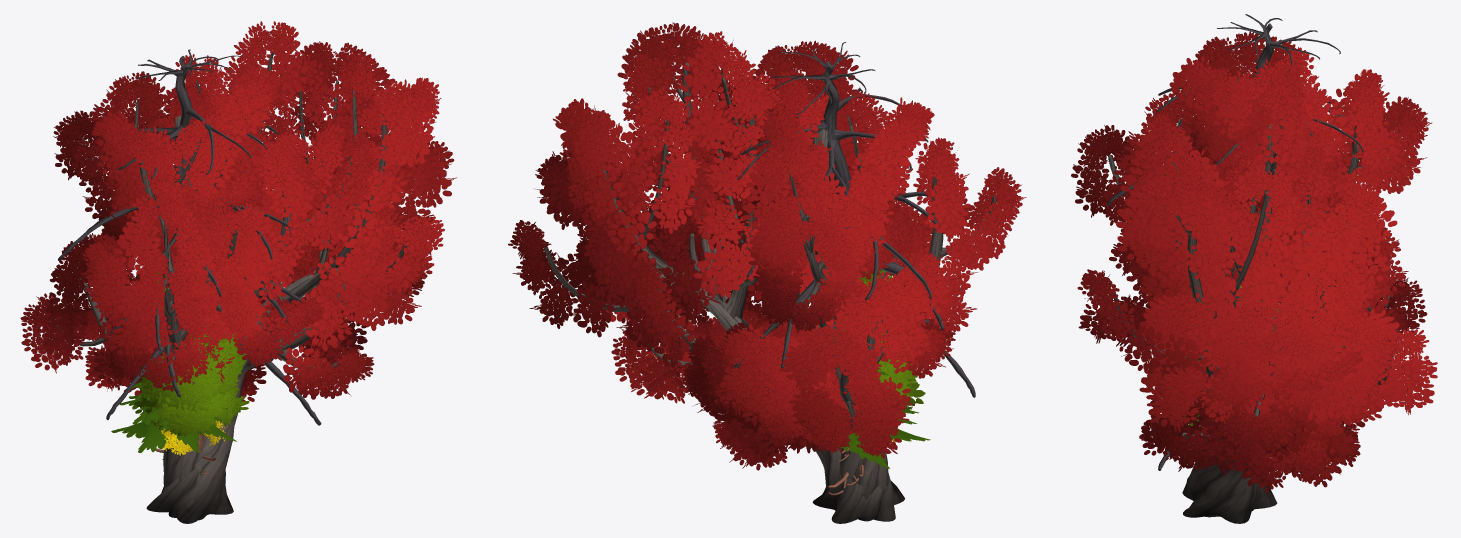
The model's file is canopy.glb.
3 renders of one model, left to right at view 1: azimuth 30°, elevation 25°; view 2: azimuth 150°, elevation 25°; view 3: azimuth 270°, elevation 25°, orthographic. The views are drawn at different scales.
Parts seen in each view (by area): view 1: q-twisted-2, q-twisted-1, q-dead-tree, q-oak-wide, q-common-tree, q-pine-1, q-birch-2; view 2: q-twisted-1, q-twisted-2, q-dead-tree, q-pine-1; view 3: q-twisted-1, q-twisted-2, q-dead-tree.
Boxes of the visible parts, bbox=[...] form: q-twisted-2: bbox=[20, 54, 379, 507]; q-twisted-1: bbox=[106, 21, 457, 523]; q-dead-tree: bbox=[58, 49, 321, 520]; q-oak-wide: bbox=[134, 335, 249, 436]; q-common-tree: bbox=[142, 272, 246, 452]; q-pine-1: bbox=[111, 338, 244, 461]; q-birch-2: bbox=[162, 421, 227, 455]; q-twisted-1: bbox=[508, 22, 931, 523]; q-twisted-2: bbox=[680, 40, 1026, 499]; q-dead-tree: bbox=[707, 42, 975, 521]; q-pine-1: bbox=[828, 341, 930, 488]; q-twisted-1: bbox=[1077, 64, 1437, 523]; q-twisted-2: bbox=[1071, 31, 1432, 506]; q-dead-tree: bbox=[1107, 14, 1371, 517].
Size of the model in its own units: 15.83 by 16.86 by 11.71.
8 materials, 8 textured.
